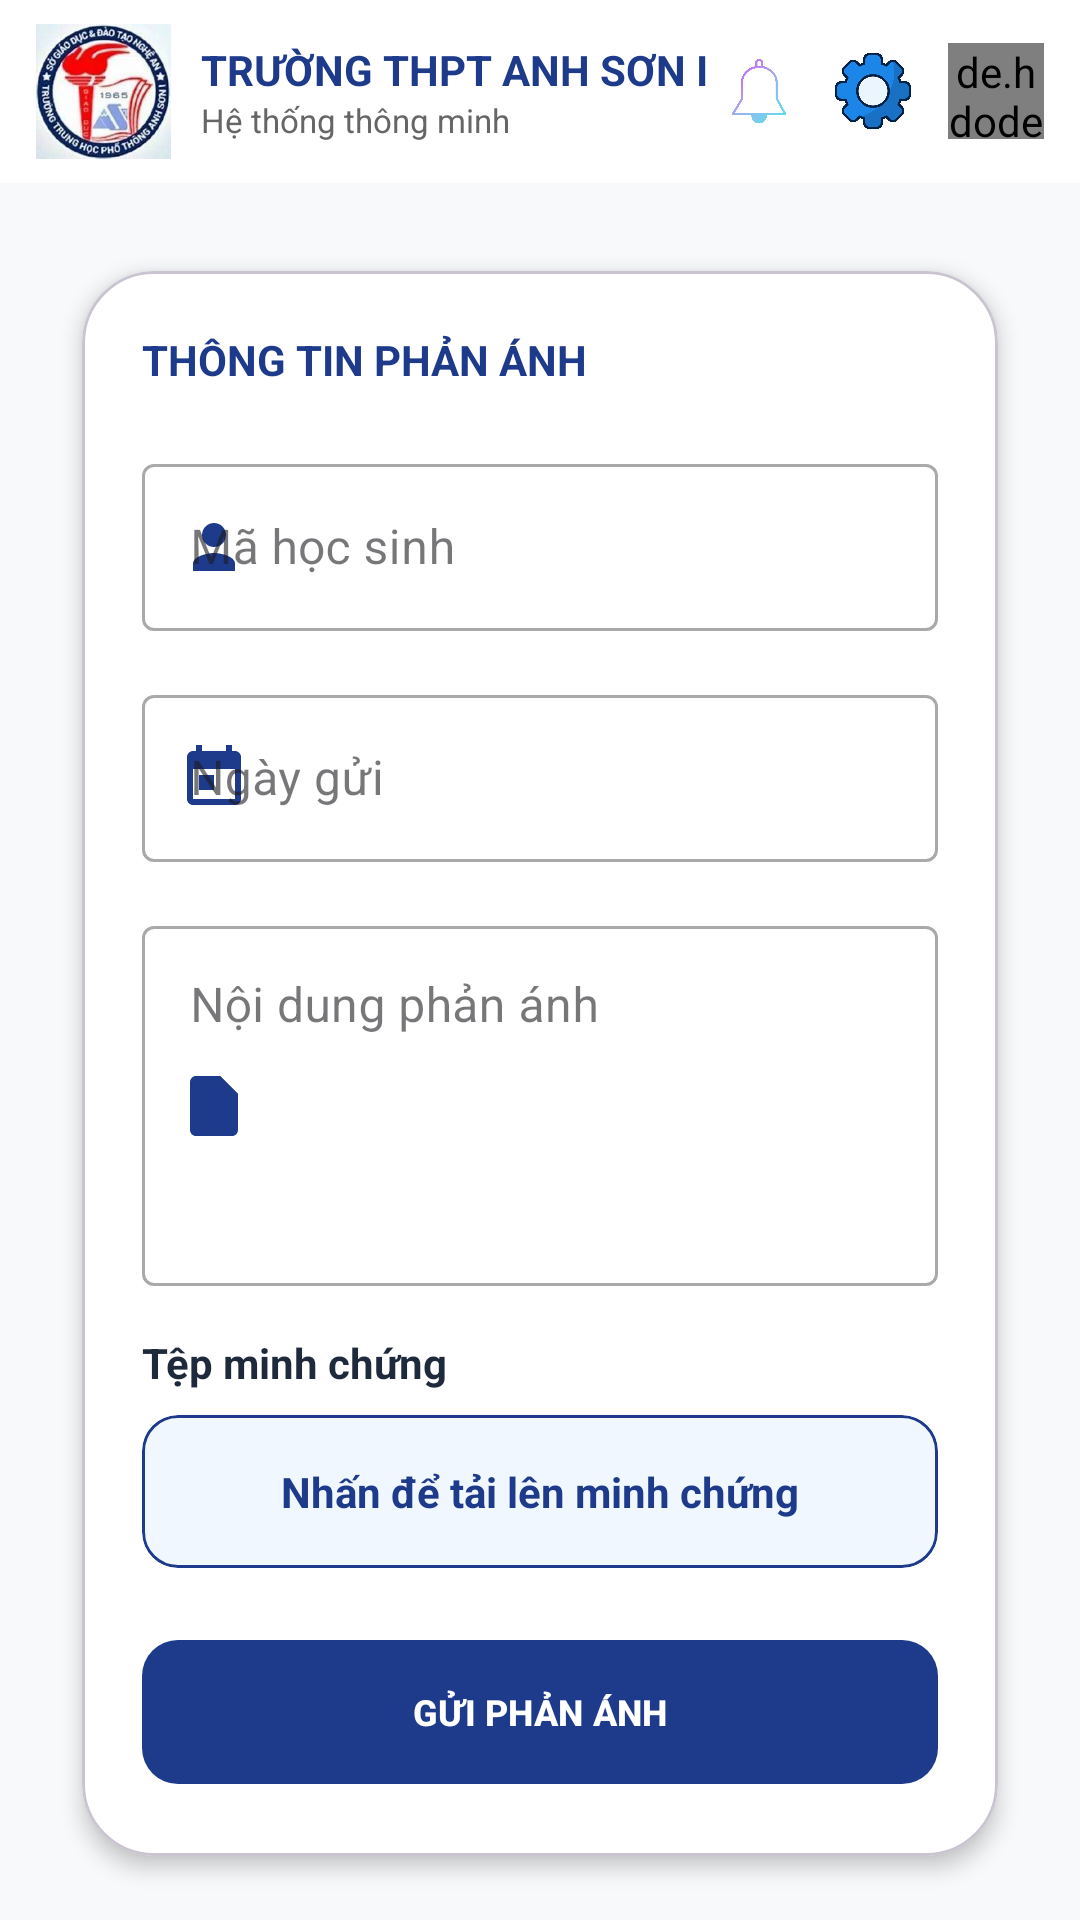

Icons on this 1080px×1920px Android screen, each with the point to tap as (x=x, y=y):
Notification: (x=759, y=91)
Settings: (x=873, y=91)
